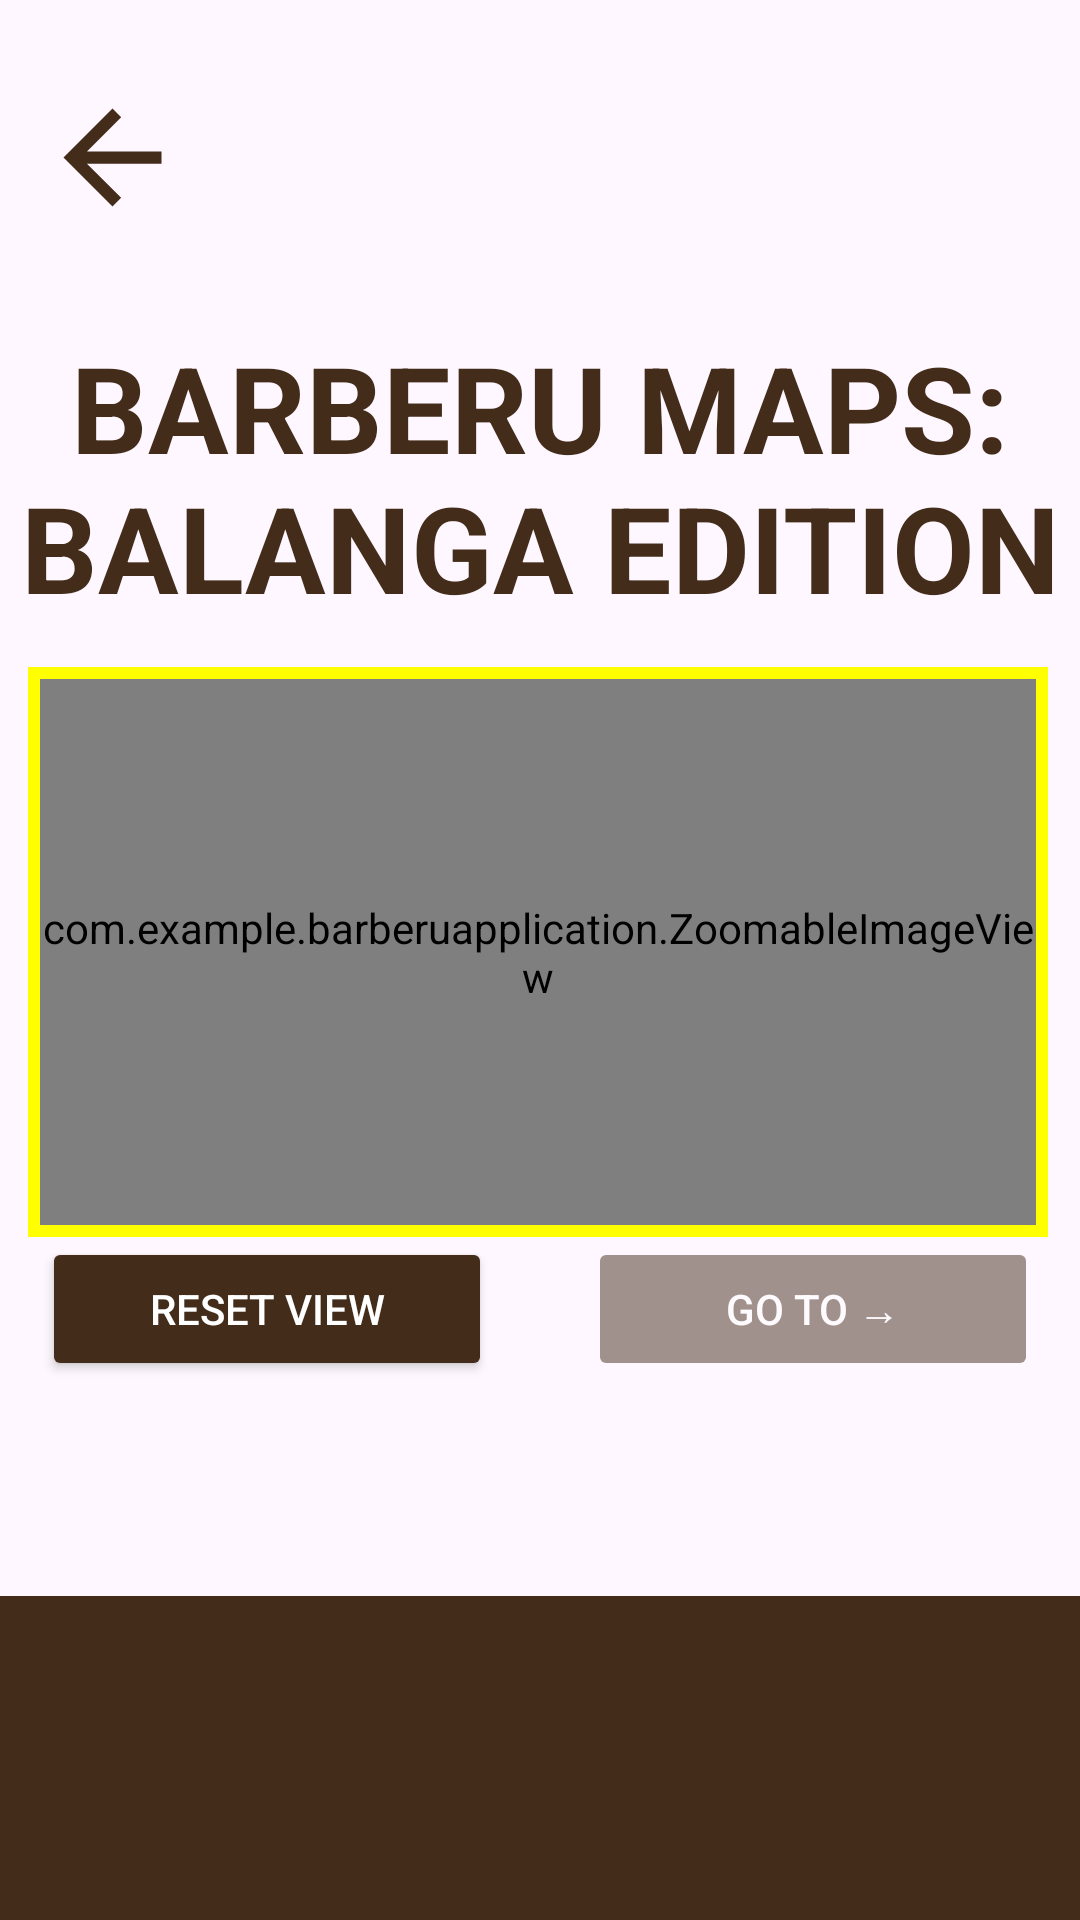

Named icons in this screenshot (1080x1920) and their centers, point (x, y):
arrowreturn: point (112, 157)
